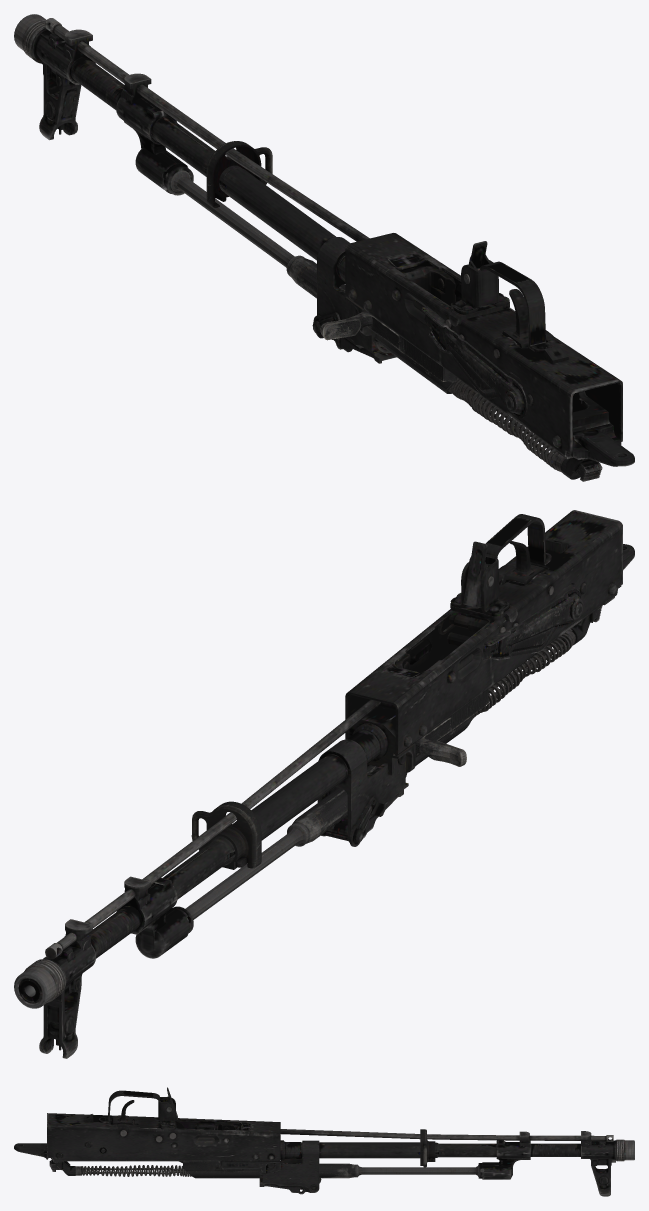
The picture shows the model from 3 angles, top to bottom: view 1: azimuth 30°, elevation 25°; view 2: azimuth 150°, elevation 25°; view 3: azimuth 270°, elevation 25°; orthographic projection. The views are drawn at different scales.
Visible parts, largest first — view 1: TW_5bf3e03b0db834001d2c4a9c_PZ_Import; view 2: TW_5bf3e03b0db834001d2c4a9c_PZ_Import; view 3: TW_5bf3e03b0db834001d2c4a9c_PZ_Import.
Part boxes in pixels (x1,y1,x2,y2): TW_5bf3e03b0db834001d2c4a9c_PZ_Import: (14, 14, 634, 481); TW_5bf3e03b0db834001d2c4a9c_PZ_Import: (14, 510, 634, 1058); TW_5bf3e03b0db834001d2c4a9c_PZ_Import: (14, 1087, 634, 1196).
Size of the model in its own units: 0.0424 by 0.3937 by 0.0735.
1 material, 1 textured.
